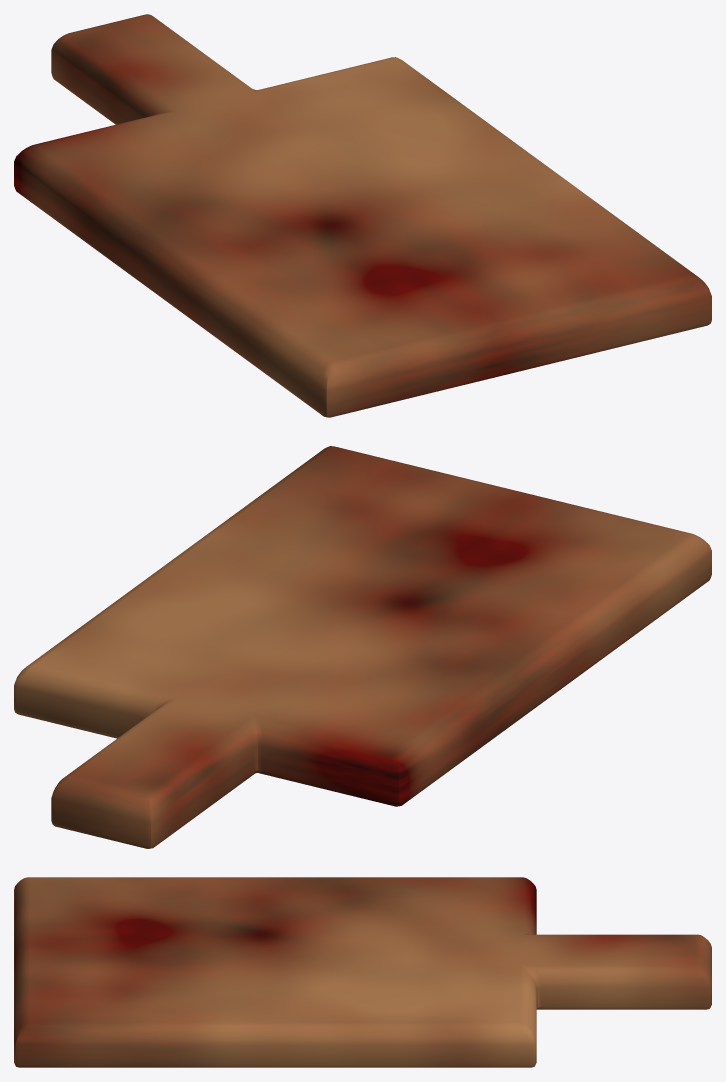
File: T_cut.fbx
3 views of the same model, one above another, from view 1: azimuth 30°, elevation 25°; view 2: azimuth 150°, elevation 25°; view 3: azimuth 270°, elevation 25° (orthographic). The views are drawn at different scales.
Visible parts, largest first — view 1: Cube.005; view 2: Cube.005; view 3: Cube.005.
Boxes of the visible parts, left/top/right/bottom form: Cube.005: left=14, top=14, right=711, bottom=417; Cube.005: left=14, top=446, right=711, bottom=848; Cube.005: left=14, top=877, right=711, bottom=1067.
Bounding box in the file's own units: 0.6766 × 0.0812 × 1.27.
Materials: 1 (1 with a texture image).
